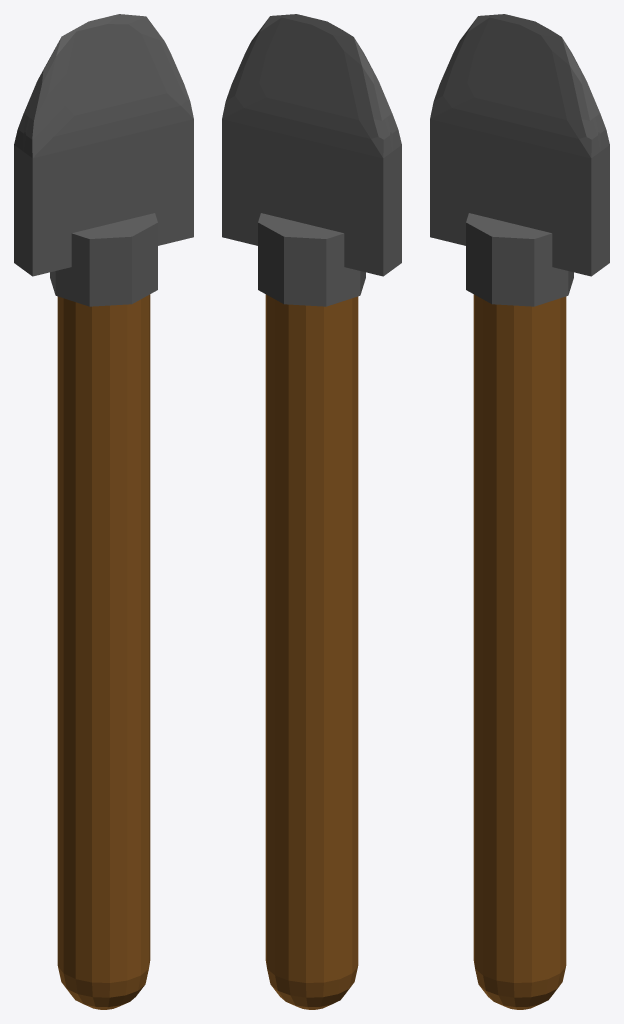
Rendered from Shovel.fbx.
The picture shows the model from 3 angles, left to right: view 1: azimuth 30°, elevation 25°; view 2: azimuth 150°, elevation 25°; view 3: azimuth 330°, elevation 25°; orthographic projection.
Parts seen in each view (by area): view 1: Sphere, Cube; view 2: Sphere, Cube; view 3: Sphere, Cube.
Part boxes in pixels (<box>): Sphere: <box>57,294,150,1009</box>; Cube: <box>14,14,193,306</box>; Sphere: <box>265,294,358,1009</box>; Cube: <box>222,14,401,306</box>; Sphere: <box>473,294,566,1009</box>; Cube: <box>430,14,609,306</box>.
Bounding box in the file's own units: 40 × 234 × 24.
